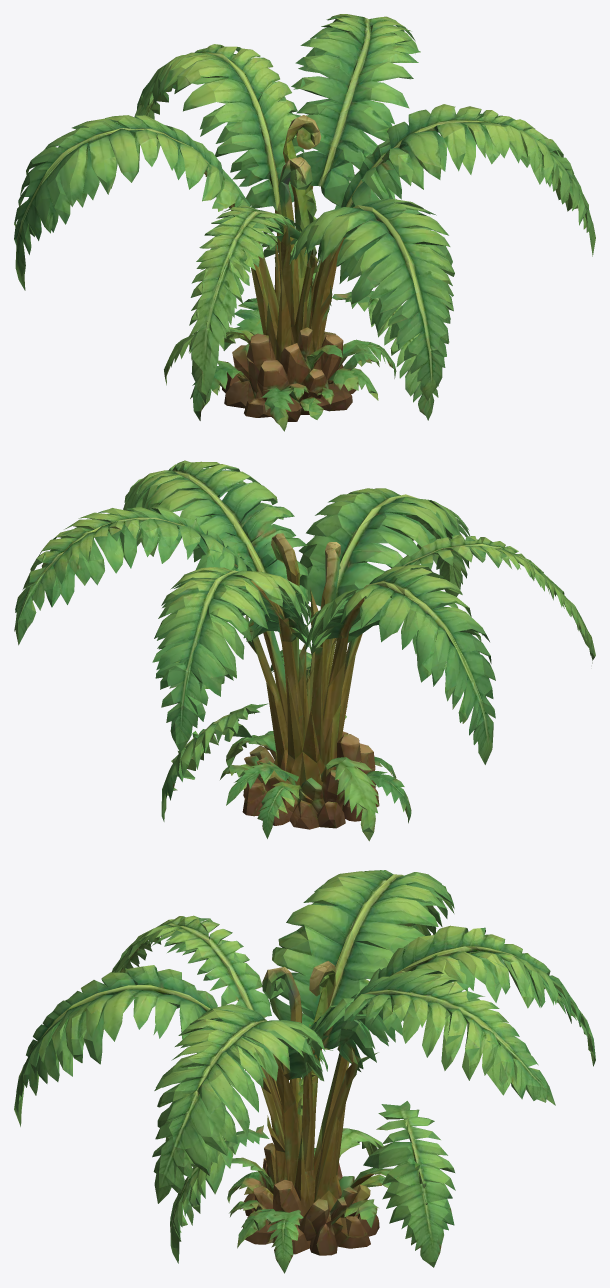
The model's file is prop_fern.glb.
3 renders of one model, top to bottom at view 1: azimuth 30°, elevation 25°; view 2: azimuth 150°, elevation 25°; view 3: azimuth 270°, elevation 25°, orthographic. The views are drawn at different scales.
Visible parts, largest first — view 1: output_unwrapped; view 2: output_unwrapped; view 3: output_unwrapped.
Part boxes in pixels (x1,y1,x2,y2): output_unwrapped: [14, 14, 595, 431]; output_unwrapped: [14, 460, 595, 841]; output_unwrapped: [14, 870, 595, 1273].
Bounding box in the file's own units: 1.81 × 1.11 × 1.9.
Materials: 1 (1 with a texture image).
